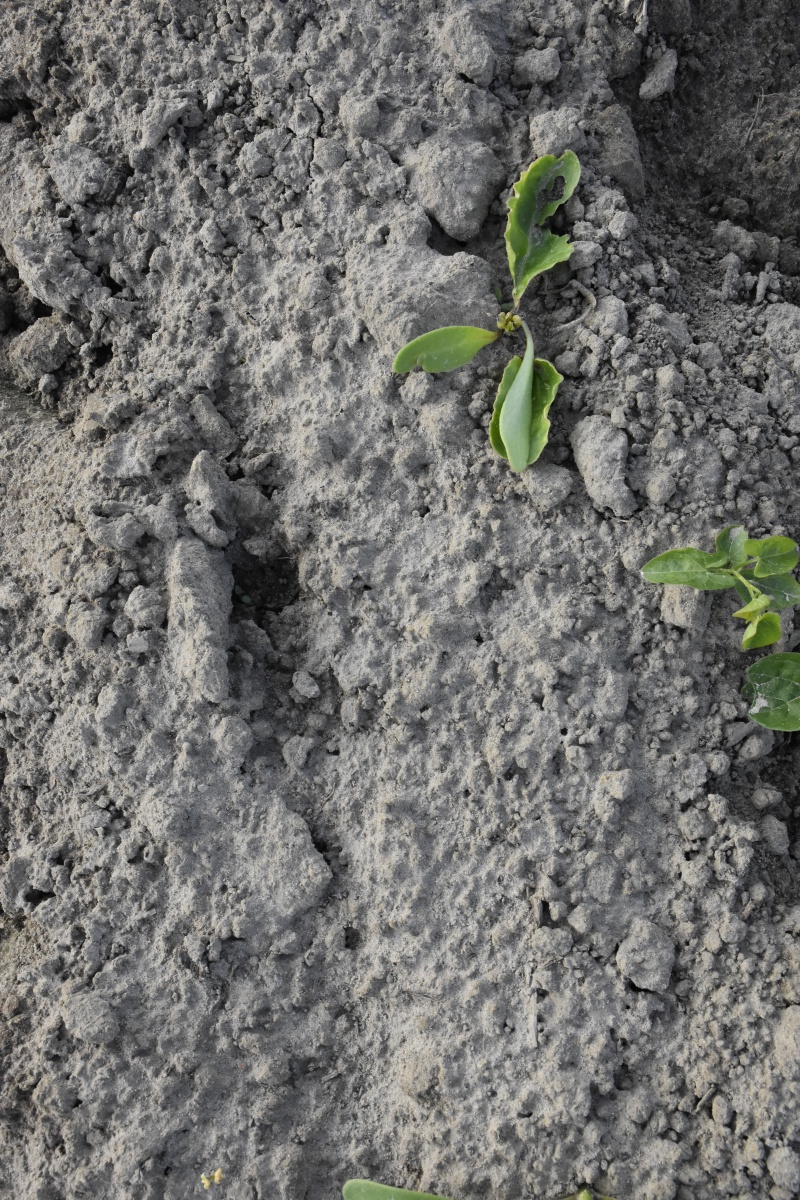field bindweed: (651, 528, 800, 719)
sugar beet: (390, 158, 610, 484)
